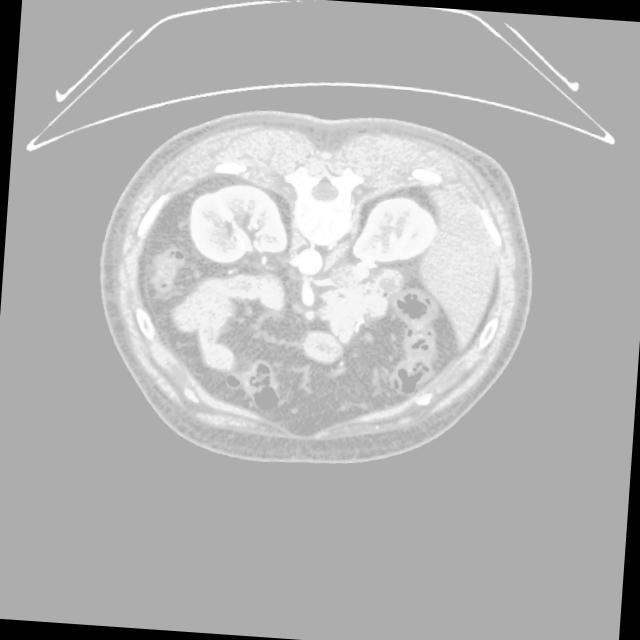NORMAL: (84, 103, 545, 501)
